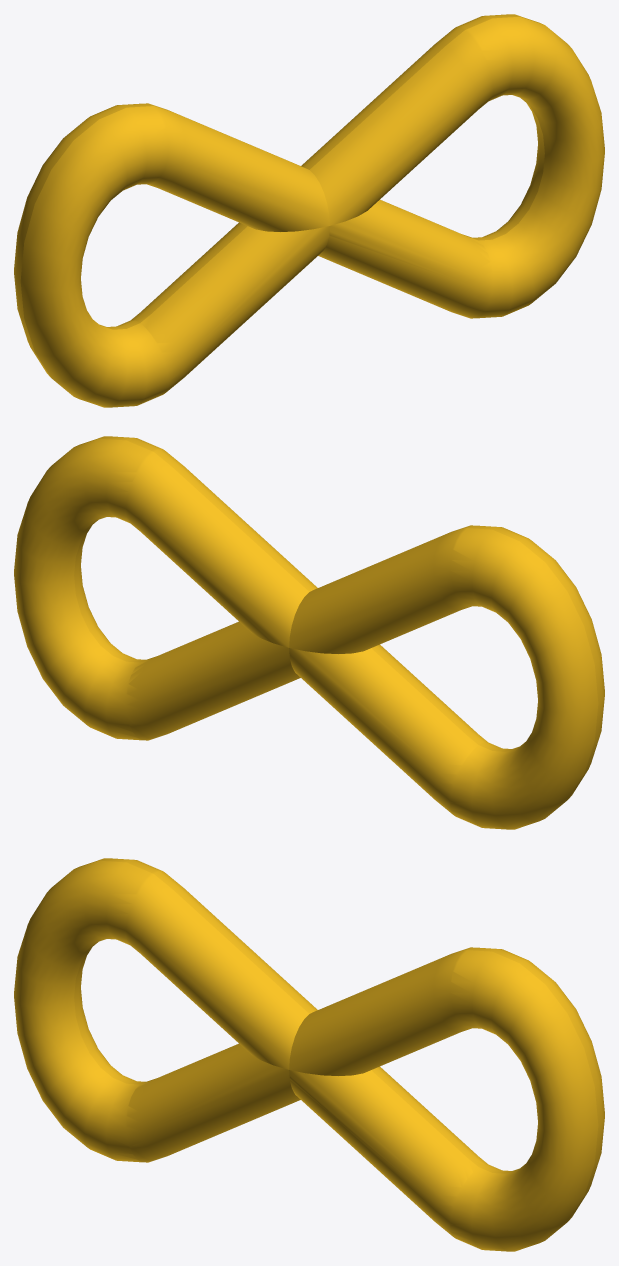
File: lemniscata.glb
3 renders of one model, top to bottom at view 1: azimuth 30°, elevation 25°; view 2: azimuth 150°, elevation 25°; view 3: azimuth 330°, elevation 25°, orthographic.
Parts seen in each view (by area): view 1: root.001; view 2: root.001; view 3: root.001.
Part boxes in pixels (x1,y1,x2,y2): root.001: (14, 14, 604, 407); root.001: (14, 436, 604, 829); root.001: (14, 858, 604, 1251).
Bounding box in the file's own units: 6.13 × 3 × 0.75.
